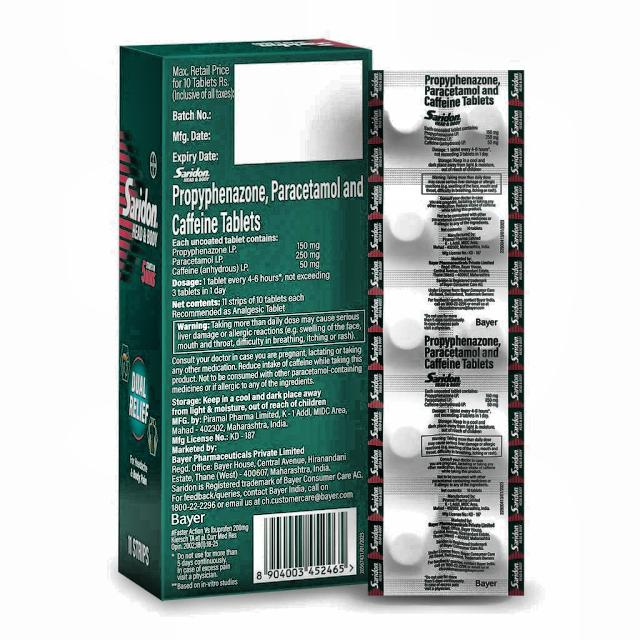Saridon: (370, 76, 528, 598)
